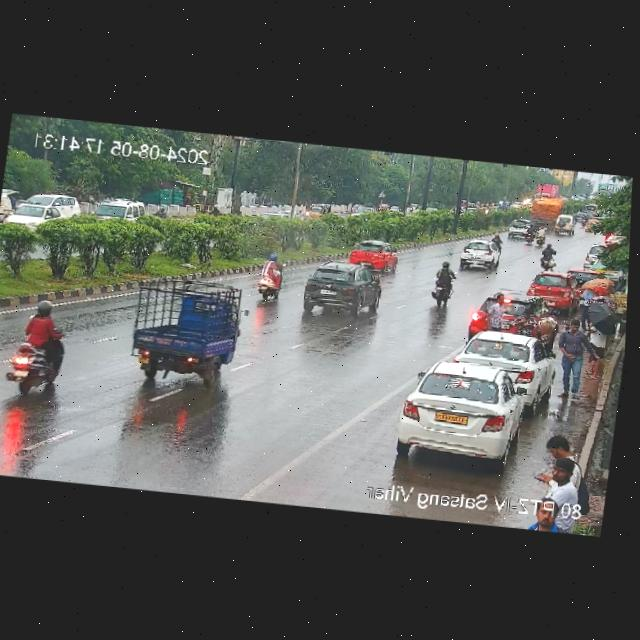car: (124, 270, 251, 389), (394, 359, 530, 467), (459, 327, 556, 396), (297, 259, 384, 322), (469, 290, 558, 341), (2, 187, 82, 230), (344, 238, 399, 274), (532, 271, 582, 309), (457, 238, 499, 271), (551, 213, 576, 237), (502, 216, 528, 237), (585, 247, 605, 270), (310, 202, 330, 219), (575, 209, 587, 219)
motorcycle: (5, 295, 80, 397), (251, 249, 291, 306), (429, 261, 458, 308), (533, 241, 560, 268), (592, 227, 626, 248), (533, 223, 547, 244), (523, 223, 535, 244), (491, 229, 503, 246), (580, 214, 588, 226)
person: (546, 320, 588, 395), (585, 318, 611, 383), (547, 458, 575, 498), (544, 431, 576, 462), (576, 286, 596, 330), (491, 289, 507, 327), (519, 306, 538, 335)
truck: (529, 195, 564, 221)
